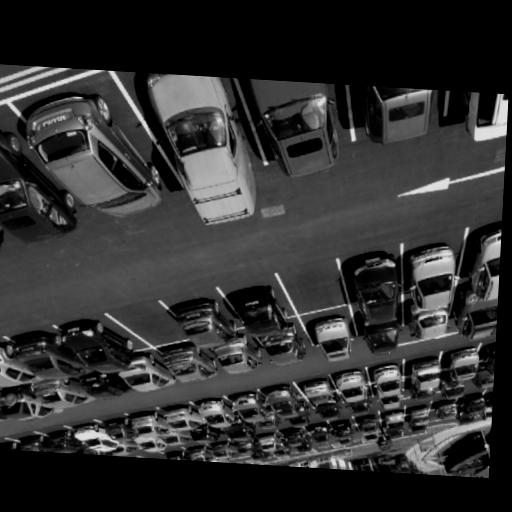busy: (17, 84, 162, 218), (134, 72, 257, 214), (244, 80, 346, 181), (0, 110, 66, 244), (345, 248, 413, 351), (400, 241, 463, 338), (356, 85, 439, 146), (457, 218, 501, 330), (63, 320, 132, 372), (228, 283, 287, 341), (15, 331, 83, 381), (170, 297, 235, 347), (0, 382, 62, 425), (307, 313, 358, 365), (461, 92, 508, 144), (30, 378, 92, 414), (117, 355, 171, 395), (162, 346, 217, 385), (214, 338, 259, 378), (405, 357, 448, 398), (260, 330, 306, 368), (301, 375, 342, 415), (261, 385, 305, 422), (368, 363, 405, 407), (81, 369, 130, 401), (335, 369, 373, 409), (445, 347, 482, 387), (130, 410, 169, 447), (74, 423, 116, 455), (231, 390, 268, 426), (0, 345, 30, 389), (165, 405, 203, 435), (196, 398, 232, 429), (43, 430, 77, 454), (106, 418, 133, 444), (405, 404, 433, 429), (192, 425, 220, 445), (18, 433, 46, 451), (211, 441, 236, 461), (330, 420, 352, 439), (310, 424, 329, 446), (187, 447, 210, 462), (166, 448, 185, 460), (0, 439, 18, 450)
free: (296, 272, 338, 301), (137, 314, 172, 335)
